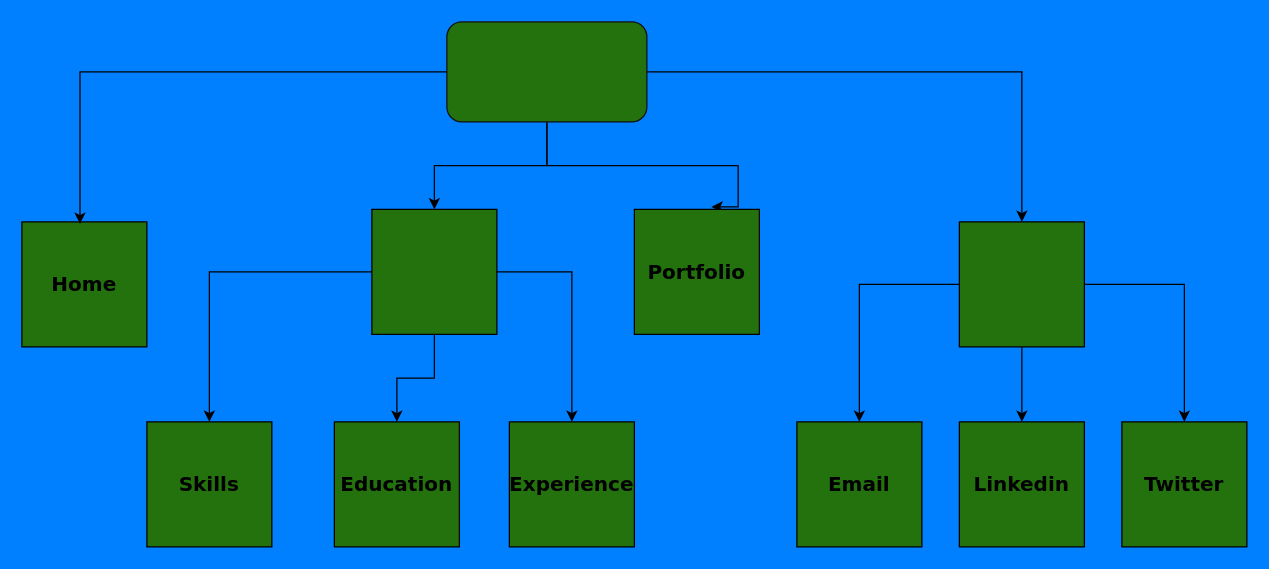
Some shapes in this 1269 by 569 pixel diagram are drawn without their labels. Here are the shapes that lost their labels. From the top down, the centre of each, then its label:
At pixel 546 71: "User Interface of Personal Portfolio".
At pixel 434 271: "About".
At pixel 1021 284: "Contact".
